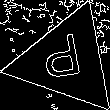P_S: (43, 32, 90, 89)
